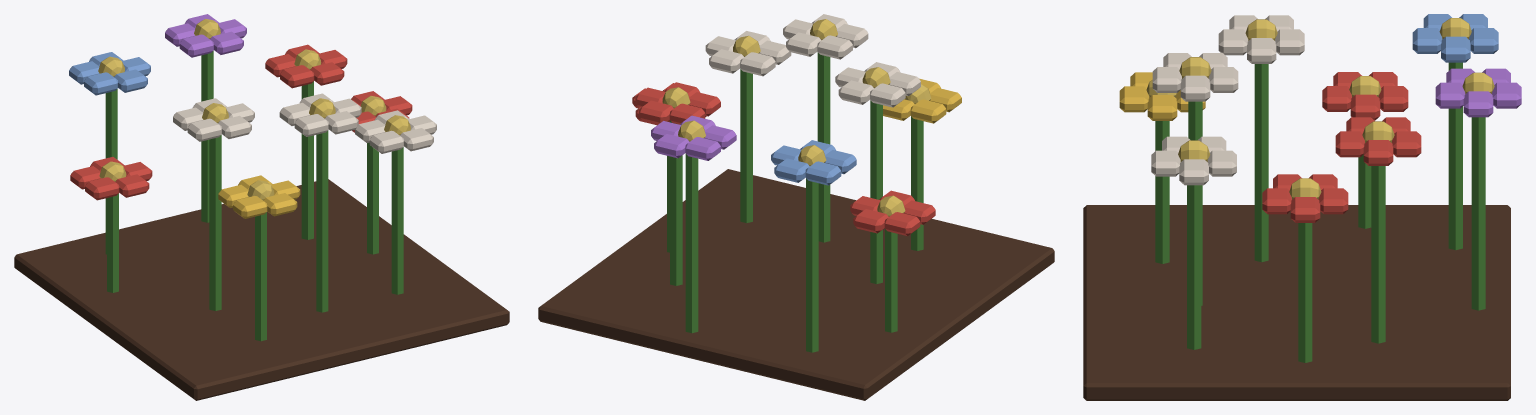
Rendered from Flowers.glb.
3 renders of one model, left to right at view 1: azimuth 30°, elevation 25°; view 2: azimuth 150°, elevation 25°; view 3: azimuth 270°, elevation 25°, orthographic. The views are drawn at different scales.
Parts seen in each view (by area): view 1: Body; view 2: Body; view 3: Body.
Part boxes in pixels (x1=…): Body: x1=14, y1=14, x2=509, y2=400; Body: x1=538, y1=14, x2=1054, y2=400; Body: x1=1083, y1=14, x2=1521, y2=400.
Bounding box in the file's own units: 2.6 × 1.77 × 2.66.
